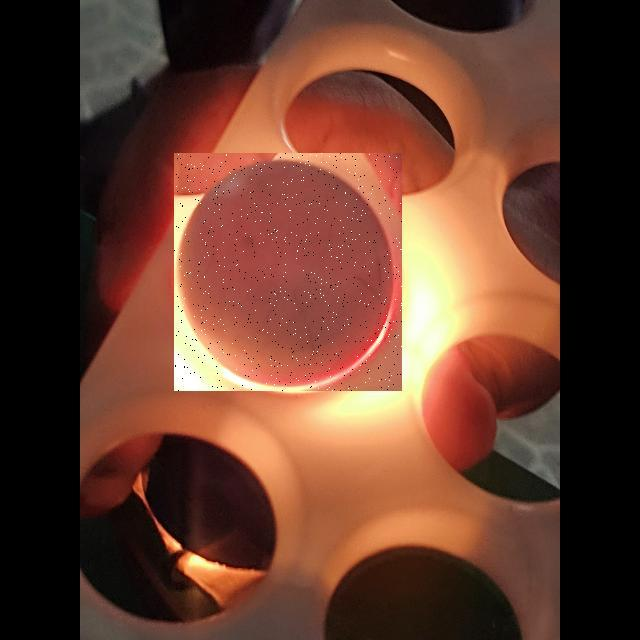Fertile: (174, 153, 402, 391)
